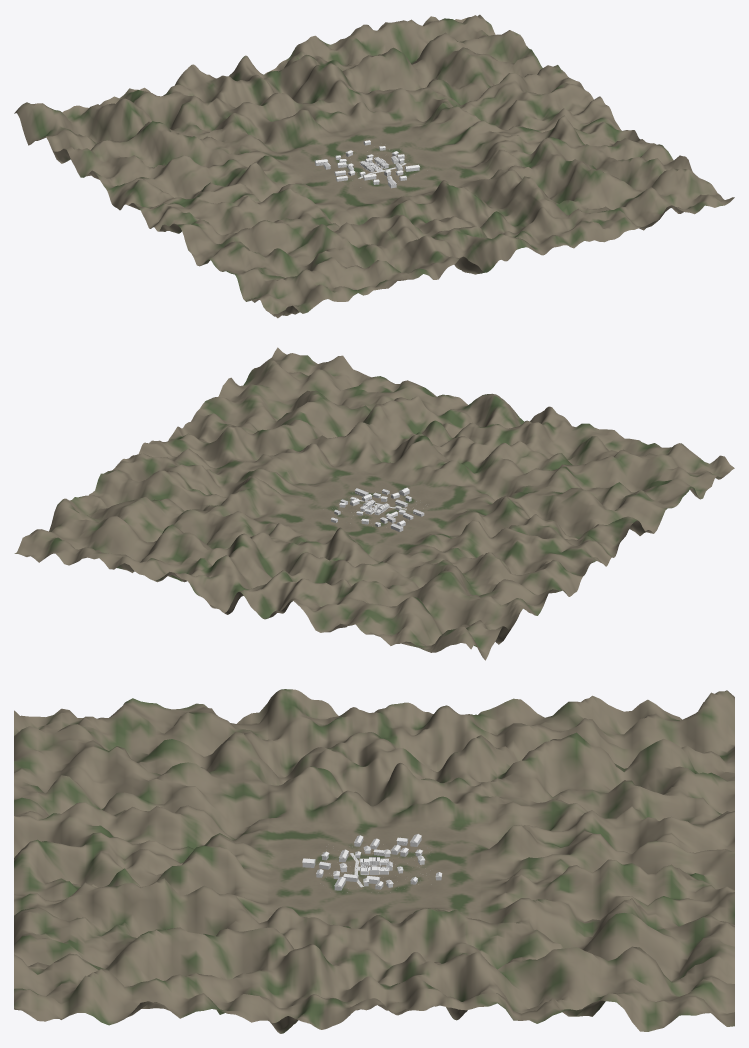
File: hadapu.glb
3 views of the same model, one above another, from view 1: azimuth 30°, elevation 25°; view 2: azimuth 150°, elevation 25°; view 3: azimuth 270°, elevation 25° (orthographic). The views are drawn at different scales.
Visible parts, largest first — view 1: Continuous terrain; view 2: Continuous terrain; view 3: Continuous terrain, Outlying courtyard roofs, Historic plaster.001.
Boxes of the visible parts, x1=… form: Continuous terrain: x1=14, y1=14, x2=734, y2=318; Continuous terrain: x1=14, y1=347, x2=734, y2=660; Continuous terrain: x1=14, y1=689, x2=734, y2=1033; Outlying courtyard roofs: x1=302, y1=834, x2=441, y2=886; Historic plaster.001: x1=302, y1=837, x2=441, y2=890.
Bounding box in the file's own units: 592 × 59 × 592.
